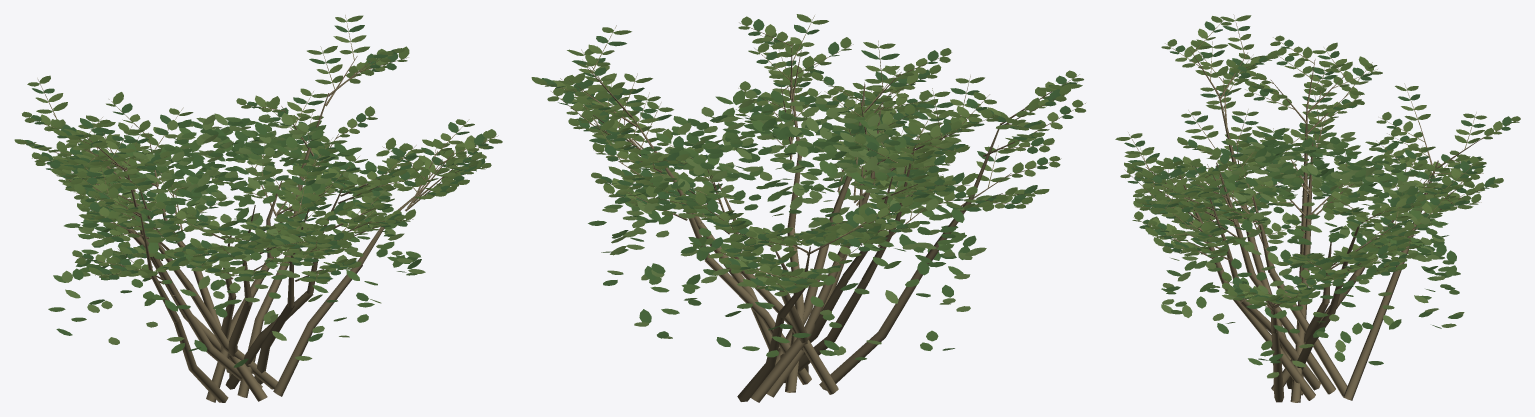
File: LentisqueRampant_1_High.fbx
The picture shows the model from 3 angles, left to right: view 1: azimuth 30°, elevation 25°; view 2: azimuth 150°, elevation 25°; view 3: azimuth 270°, elevation 25°; orthographic projection. The views are drawn at different scales.
Visible parts, largest first — view 1: LentisqueRampant_1_High; view 2: LentisqueRampant_1_High; view 3: LentisqueRampant_1_High.
Boxes of the visible parts, <box> form: LentisqueRampant_1_High: <box>14,15,502,402</box>; LentisqueRampant_1_High: <box>531,14,1085,402</box>; LentisqueRampant_1_High: <box>1115,14,1520,402</box>.
Bounding box in the file's own units: 227 × 142 × 187.
